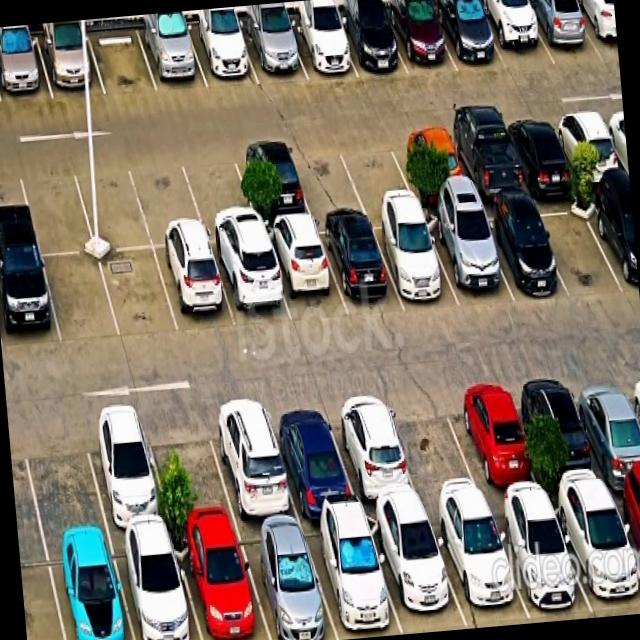empty: (381, 384, 486, 509), (142, 408, 237, 531), (18, 414, 107, 542), (530, 192, 625, 294), (179, 146, 261, 243), (71, 157, 152, 251), (128, 153, 207, 247), (17, 160, 95, 255), (99, 248, 178, 339), (42, 254, 120, 345), (287, 137, 365, 215), (336, 132, 416, 208), (87, 26, 157, 94)
occupied: (301, 515, 402, 640), (488, 499, 592, 620), (427, 504, 530, 626), (365, 512, 467, 633), (445, 378, 544, 502), (204, 396, 299, 524), (235, 523, 337, 640), (324, 391, 423, 510), (549, 490, 640, 617), (264, 397, 359, 518), (516, 372, 608, 496), (80, 410, 171, 534), (172, 527, 269, 640), (110, 532, 201, 640), (474, 203, 567, 301), (422, 208, 514, 307), (45, 537, 133, 640), (262, 221, 347, 324), (316, 215, 403, 315), (568, 369, 640, 489), (369, 212, 459, 307), (154, 245, 236, 334), (210, 241, 291, 328), (443, 121, 527, 201), (232, 141, 312, 222), (390, 127, 471, 201), (0, 252, 61, 350), (501, 114, 578, 190), (584, 189, 639, 293), (475, 0, 555, 71), (550, 110, 626, 184), (383, 1, 457, 75), (431, 0, 506, 71), (333, 8, 408, 77), (522, 0, 602, 64), (185, 22, 259, 88), (35, 30, 105, 99), (136, 24, 207, 92), (284, 15, 357, 79), (239, 19, 307, 84), (0, 35, 52, 103), (572, 0, 618, 59), (609, 485, 640, 571)
